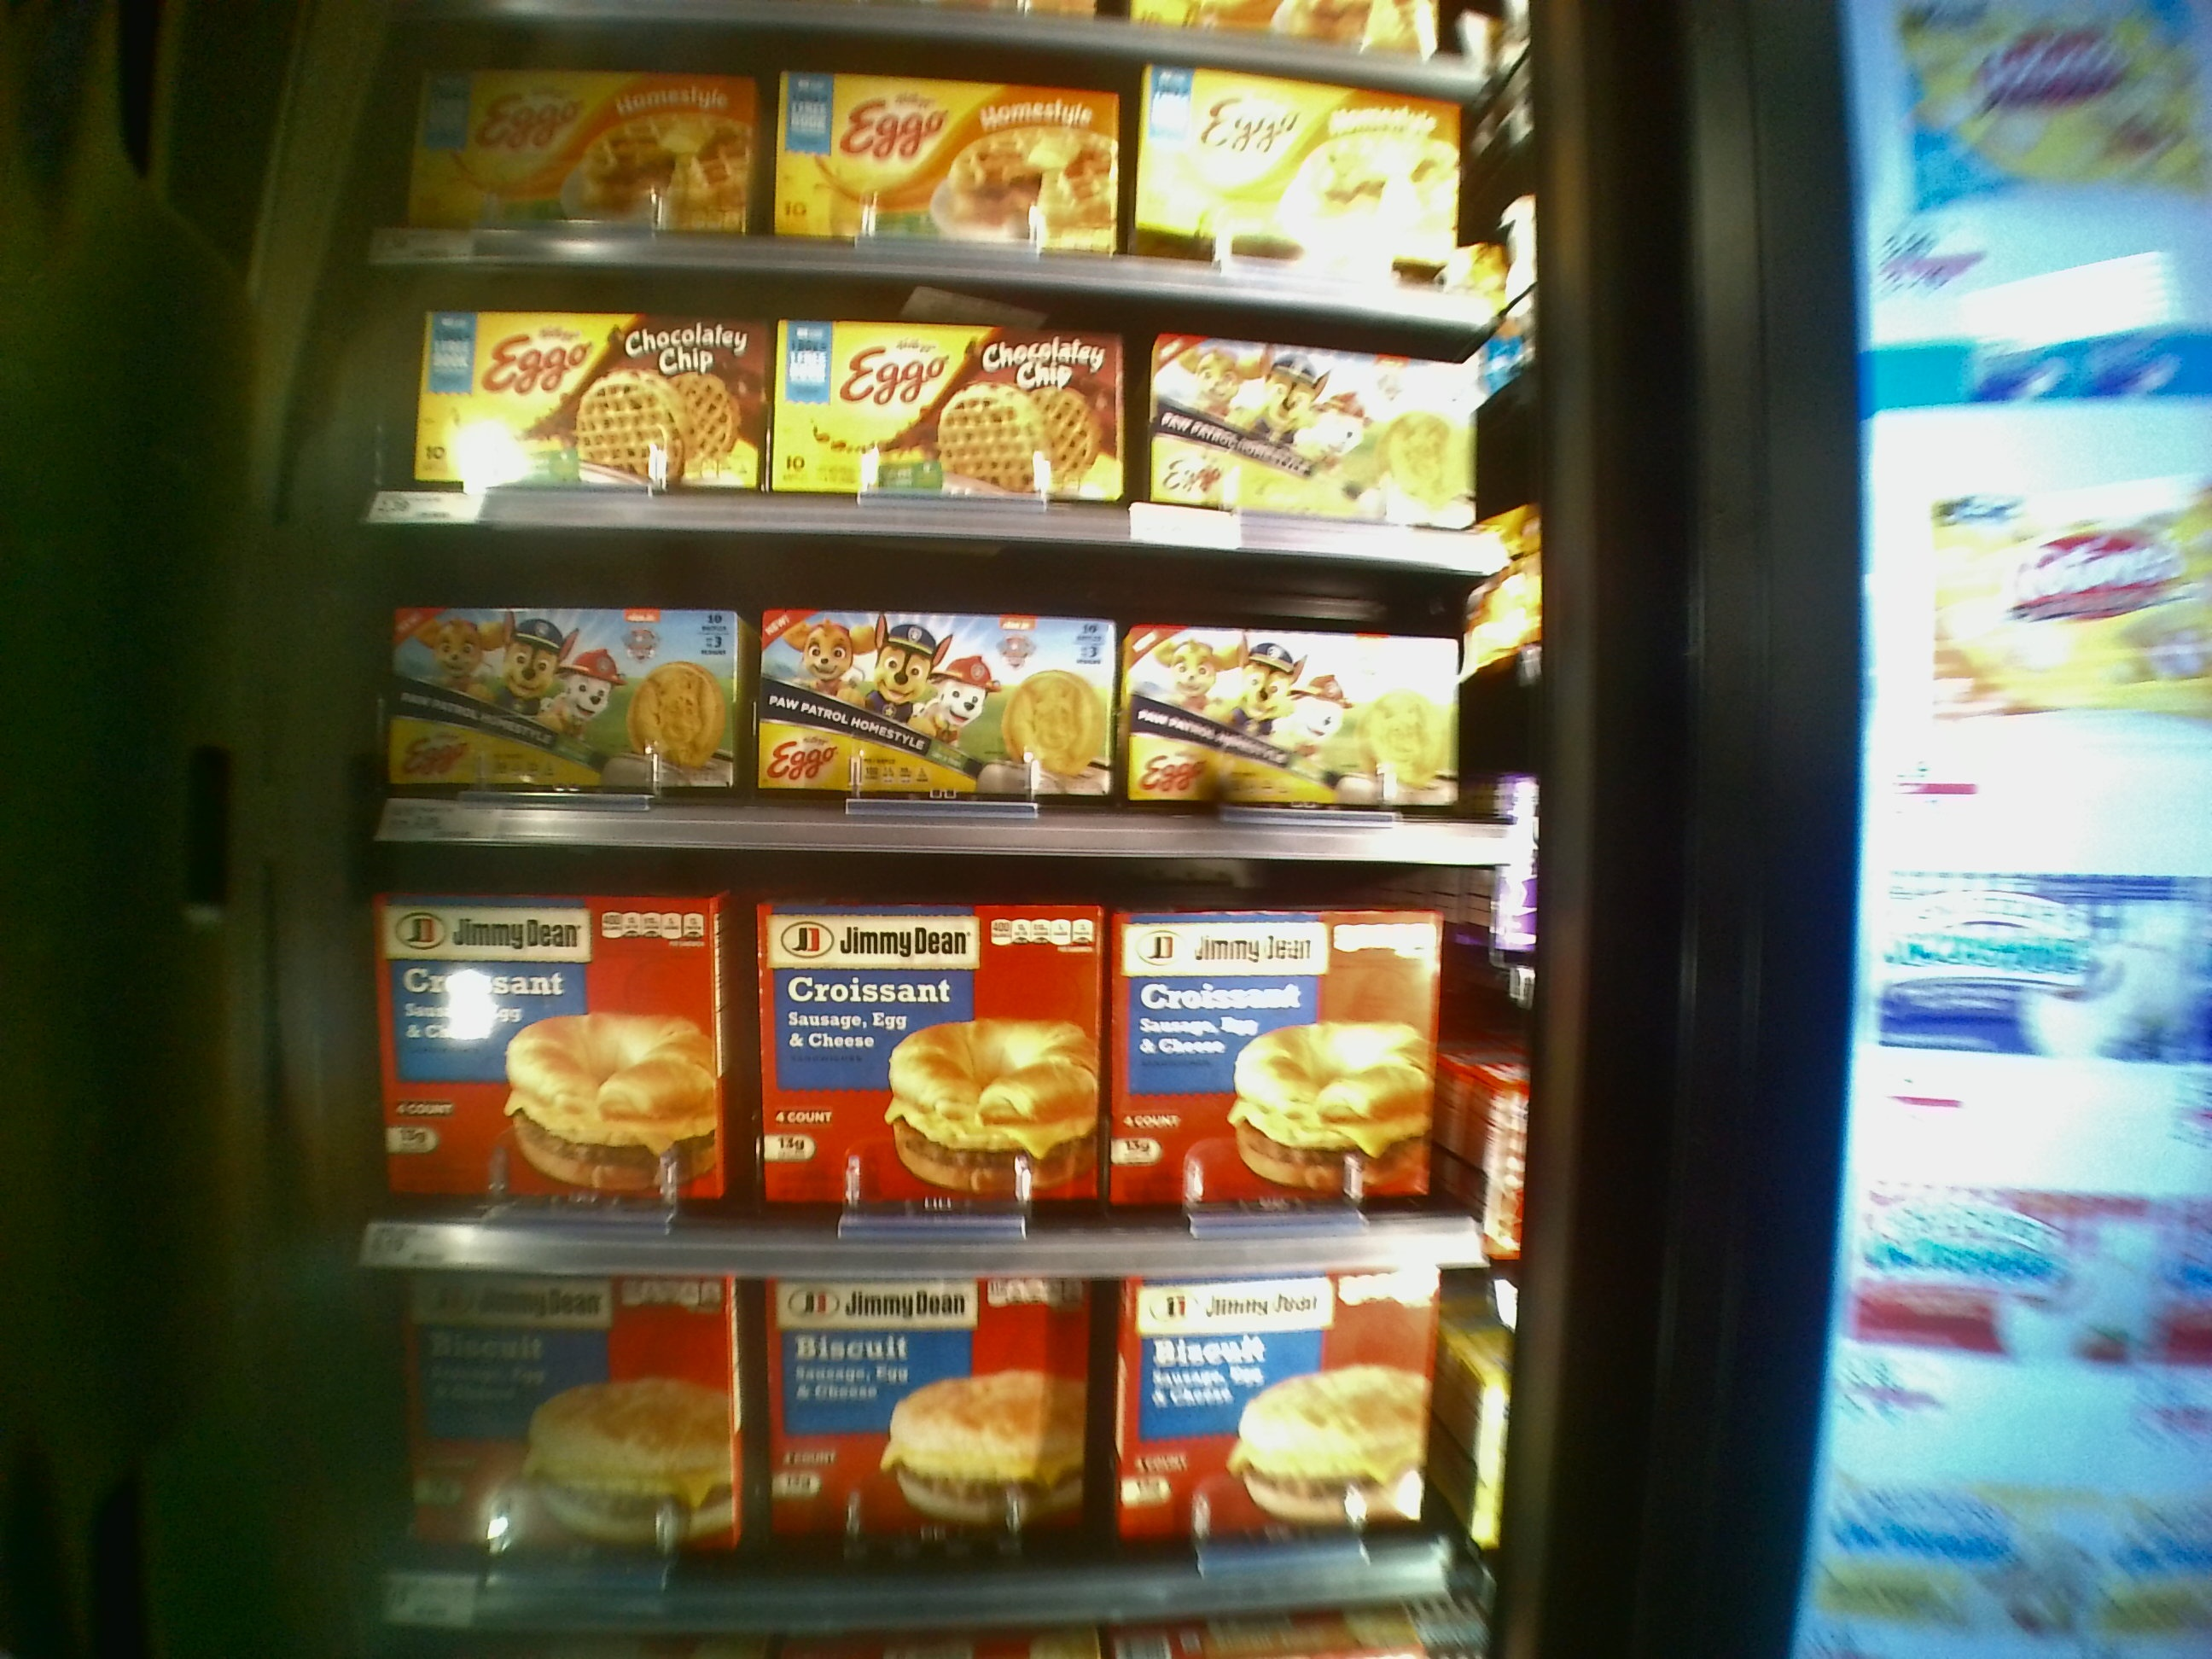shelf: (361, 836, 1505, 1265)
